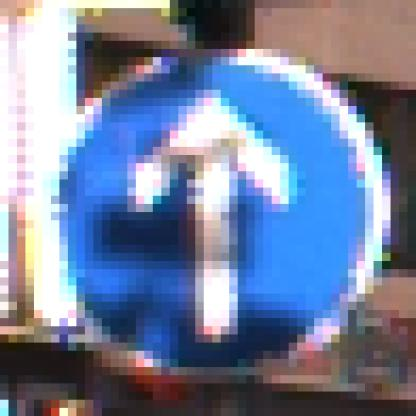AheadOnly: (44, 42, 375, 376)
